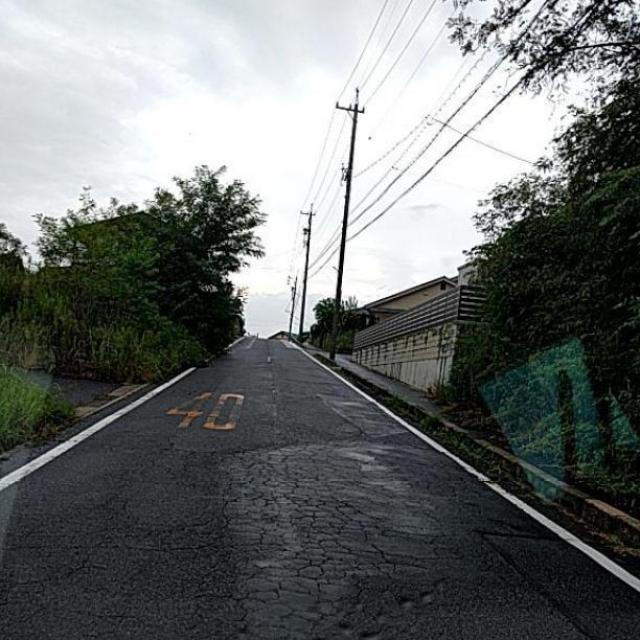Retak Buaya: (212, 446, 395, 640)
